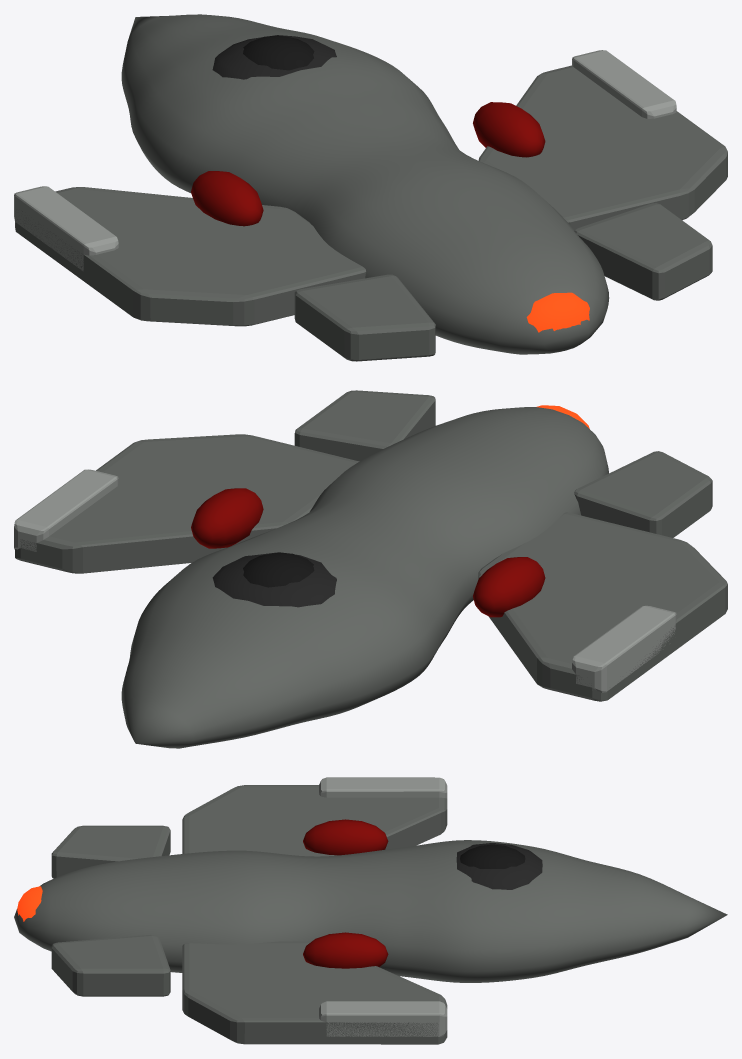
Rendered from stalker.glb.
3 renders of one model, top to bottom at view 1: azimuth 30°, elevation 25°; view 2: azimuth 150°, elevation 25°; view 3: azimuth 270°, elevation 25°, orthographic. The views are drawn at different scales.
Visible parts, largest first — view 1: fuselage, wing_left, wing_right, fin_left, fin_right, tip_left, tip_right, fitting.001, fitting, canopy_ring, canopy, engine; view 2: fuselage, wing_right, wing_left, fin_left, fin_right, tip_left, tip_right, canopy_ring, fitting.001, fitting, canopy; view 3: fuselage, wing_right, wing_left, fin_right, tip_right, fin_left, tip_left, fitting.001, fitting, canopy_ring, canopy, engine.
Boxes of the visible parts, x1=… form: fuselage: x1=121, y1=14, x2=609, y2=354; wing_left: x1=15, y1=187, x2=366, y2=326; wing_right: x1=478, y1=65, x2=727, y2=229; fin_left: x1=294, y1=274, x2=435, y2=361; fin_right: x1=574, y1=203, x2=712, y2=300; tip_left: x1=14, y1=186, x2=118, y2=271; tip_right: x1=572, y1=50, x2=676, y2=118; fitting.001: x1=473, y1=102, x2=545, y2=157; fitting: x1=191, y1=171, x2=263, y2=226; canopy_ring: x1=212, y1=35, x2=336, y2=79; canopy: x1=243, y1=35, x2=314, y2=70; engine: x1=526, y1=292, x2=589, y2=332; fuselage: x1=121, y1=407, x2=608, y2=748; wing_right: x1=15, y1=434, x2=359, y2=573; wing_left: x1=478, y1=512, x2=727, y2=701; fin_left: x1=574, y1=451, x2=712, y2=537; fin_right: x1=294, y1=390, x2=435, y2=461; tip_left: x1=572, y1=605, x2=676, y2=692; tip_right: x1=14, y1=469, x2=118, y2=551; canopy_ring: x1=212, y1=552, x2=336, y2=607; fitting.001: x1=191, y1=488, x2=263, y2=548; fitting: x1=473, y1=557, x2=545, y2=617; canopy: x1=243, y1=552, x2=314, y2=587; fuselage: x1=14, y1=840, x2=727, y2=982; wing_right: x1=182, y1=941, x2=447, y2=1044; wing_left: x1=182, y1=785, x2=447, y2=856; fin_right: x1=51, y1=934, x2=170, y2=996; tip_right: x1=319, y1=1001, x2=447, y2=1037; fin_left: x1=51, y1=825, x2=170, y2=878; tip_left: x1=319, y1=777, x2=447, y2=798; fitting.001: x1=303, y1=932, x2=388, y2=968; fitting: x1=303, y1=819, x2=388, y2=855; canopy_ring: x1=456, y1=843, x2=542, y2=889; canopy: x1=460, y1=844, x2=525, y2=868; engine: x1=17, y1=886, x2=42, y2=921.
Bounding box in the file's own units: 21 × 4.4 × 26.7.
